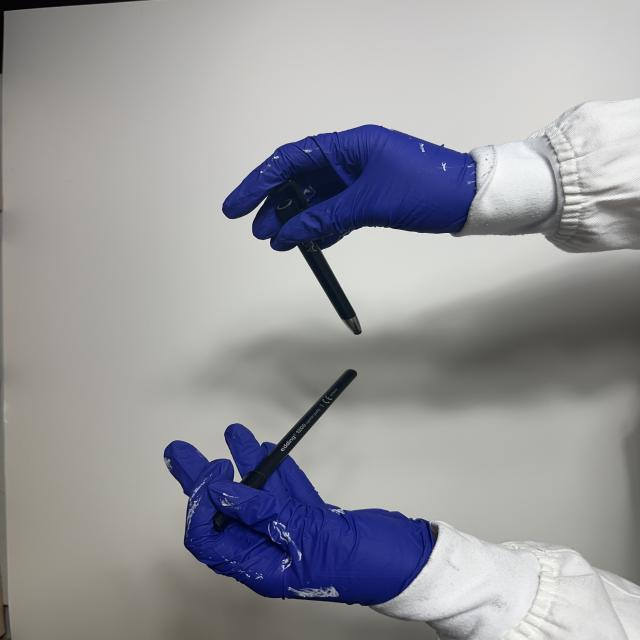gloves_contaminated: (164, 424, 435, 605), (223, 126, 479, 250)
